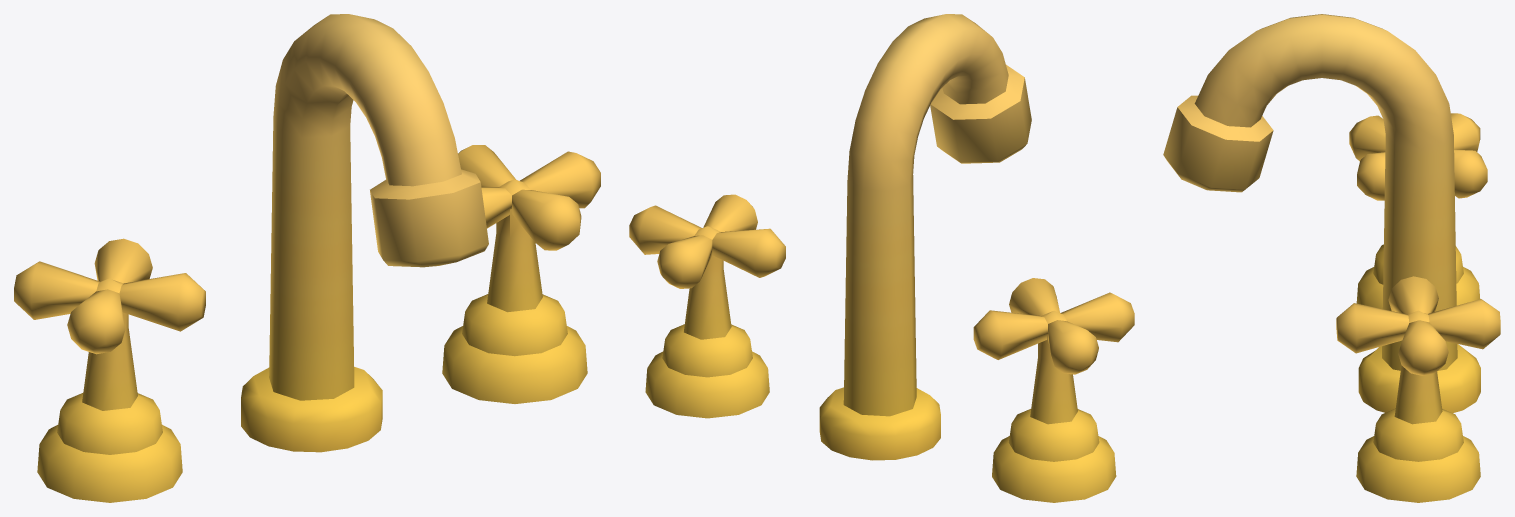
Rendered from Mixer_12.glb.
3 renders of one model, left to right at view 1: azimuth 30°, elevation 25°; view 2: azimuth 150°, elevation 25°; view 3: azimuth 270°, elevation 25°, orthographic. The views are drawn at different scales.
Visible parts, largest first — view 1: Mixer_12; view 2: Mixer_12; view 3: Mixer_12.
Part boxes in pixels (bbox=[...]): Mixer_12: bbox=[14, 14, 600, 502]; Mixer_12: bbox=[629, 14, 1134, 502]; Mixer_12: bbox=[1163, 14, 1500, 502].
Size of the model in its own units: 0.4083 by 0.3079 by 0.2498.
Materials: 1 (1 with a texture image).
